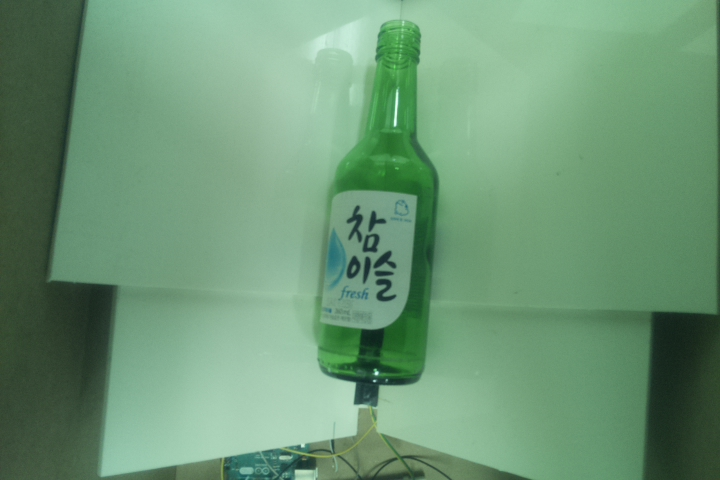soju: (317, 17, 443, 387)
